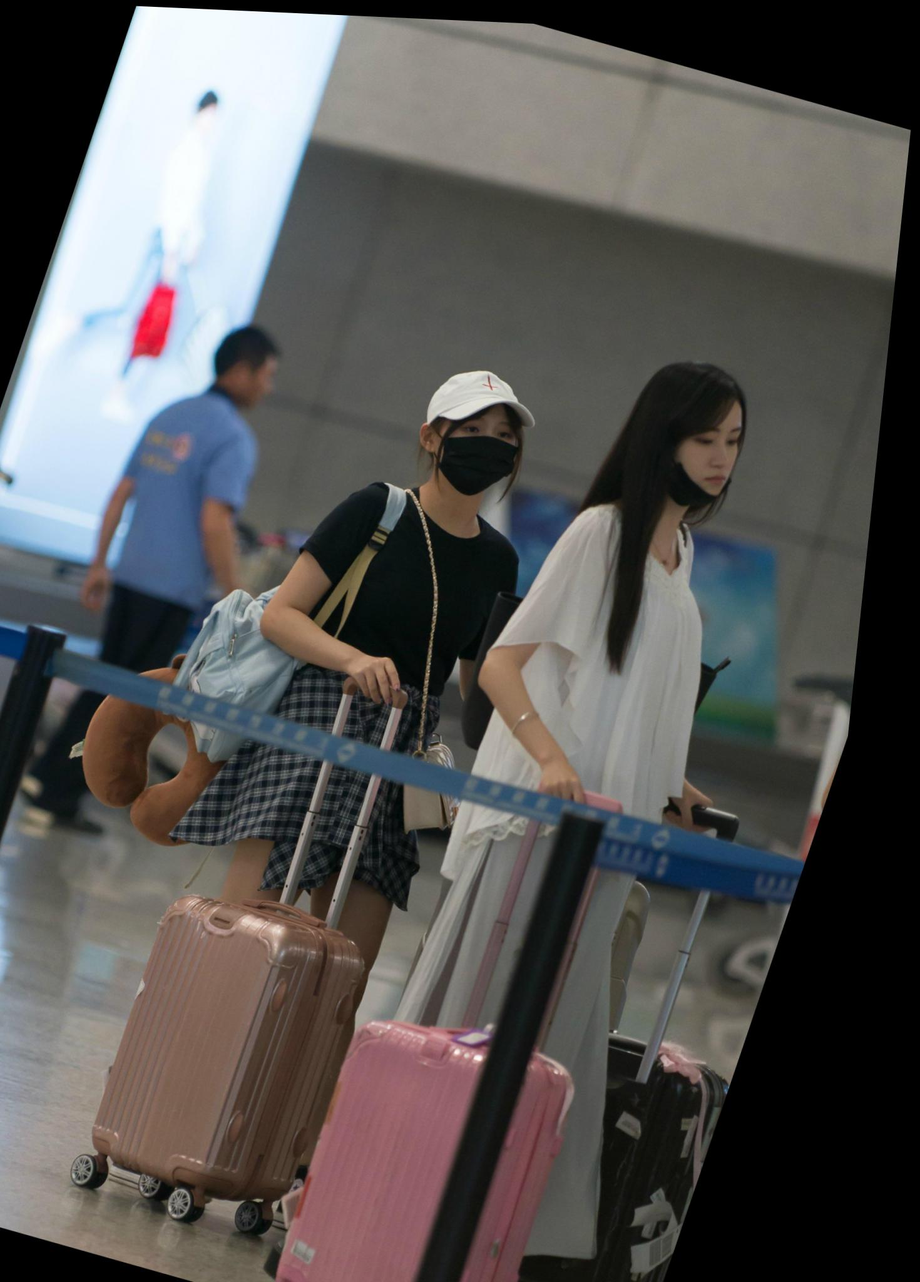OK: (433, 400, 544, 506)
WRONG: (667, 411, 760, 506)
